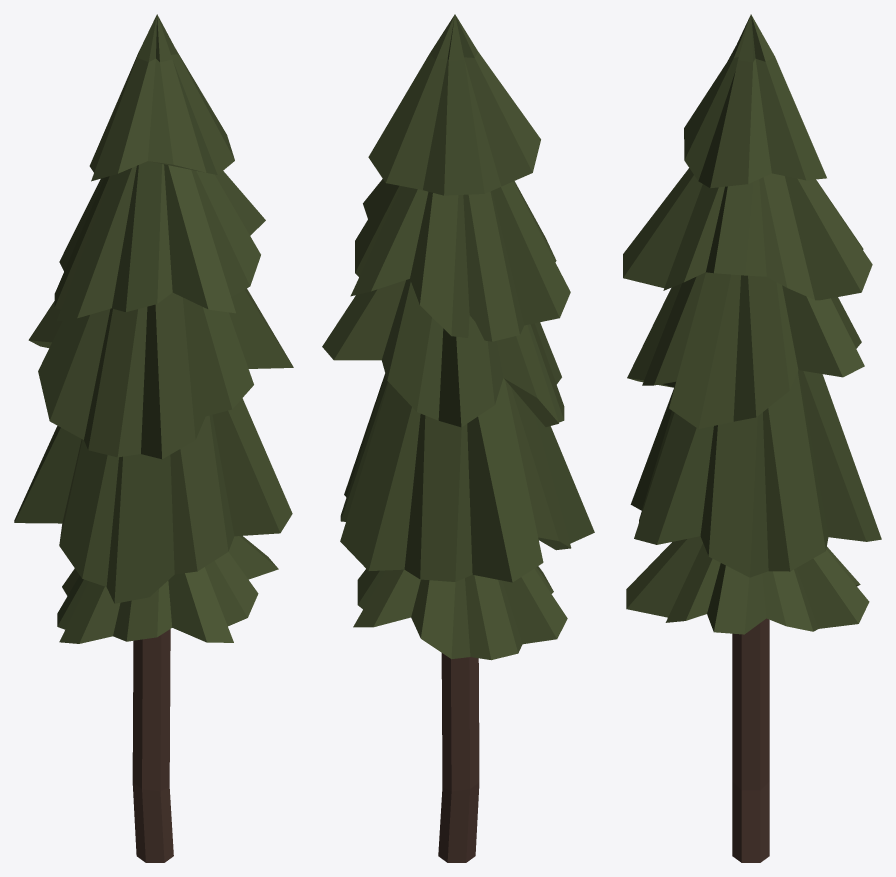
File: Tree_Type2_05.glb
3 renders of one model, left to right at view 1: azimuth 30°, elevation 25°; view 2: azimuth 150°, elevation 25°; view 3: azimuth 270°, elevation 25°, orthographic.
Visible parts, largest first — view 1: Tree Type2 05 Model; view 2: Tree Type2 05 Model; view 3: Tree Type2 05 Model.
Boxes of the visible parts, x1,y1,x2,y2 form: Tree Type2 05 Model: [14, 14, 293, 862]; Tree Type2 05 Model: [322, 14, 594, 862]; Tree Type2 05 Model: [623, 14, 881, 862].
Size of the model in its own units: 1.9 by 6.73 by 1.87.
1 material, 1 textured.
